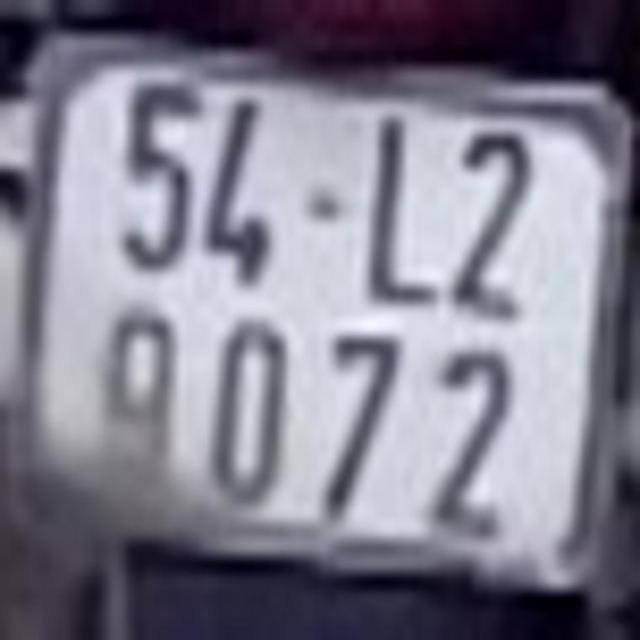0: (204, 316, 284, 508)
2: (428, 350, 512, 540), (450, 132, 530, 324)
4: (201, 95, 282, 288)
5: (122, 80, 196, 273)
7: (318, 330, 401, 516)
9: (108, 312, 177, 529)
L: (361, 112, 438, 309)
